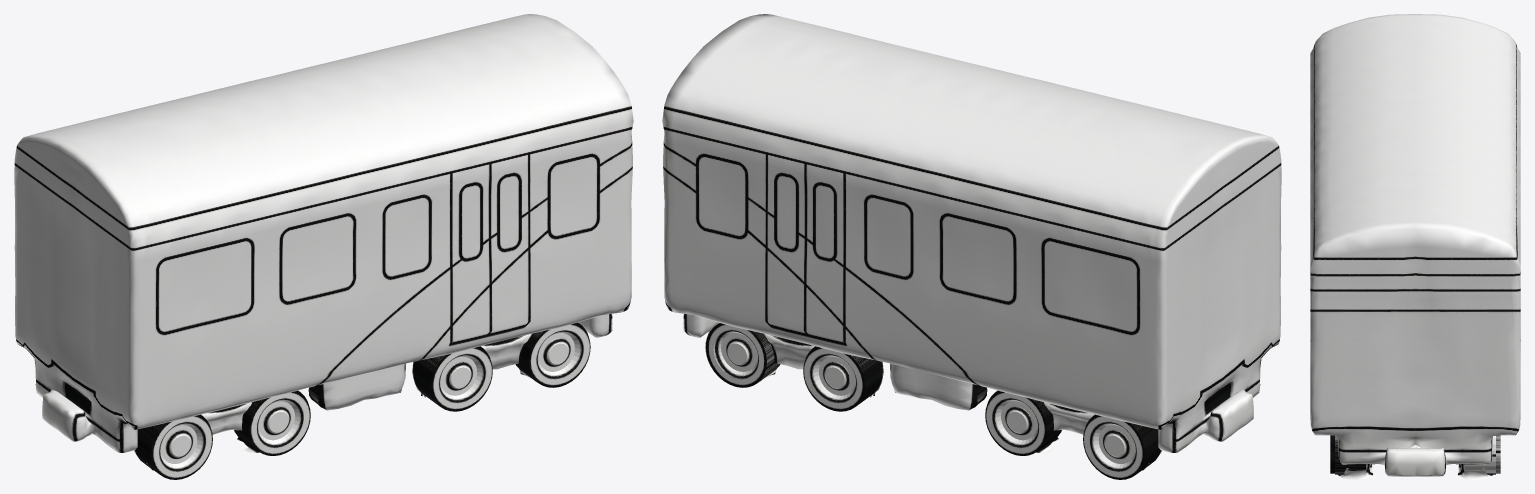
File: lrt_gerbong_new.fbx
3 views of the same model, side by side, from view 1: azimuth 30°, elevation 25°; view 2: azimuth 150°, elevation 25°; view 3: azimuth 270°, elevation 25° (orthographic). The views are drawn at different scales.
Parts seen in each view (by area): view 1: Mesh1.0; view 2: Mesh1.0; view 3: Mesh1.0.
Boxes of the visible parts, <box> form: Mesh1.0: <box>14,14,633,479</box>; Mesh1.0: <box>662,14,1281,479</box>; Mesh1.0: <box>1310,14,1520,479</box>.
Bounding box in the file's own units: 138 × 74.88 × 53.09.
1 material, 1 textured.
